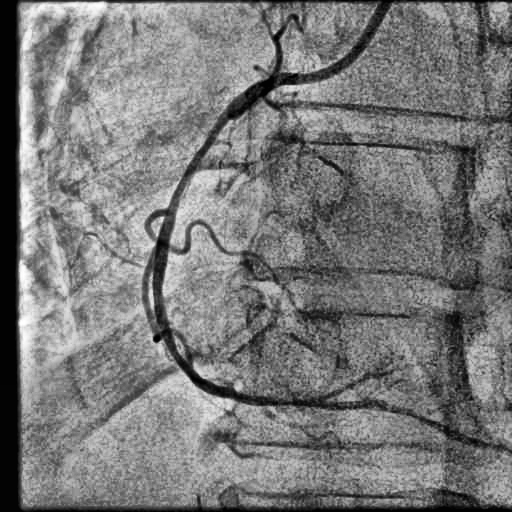pborca: (312, 360, 429, 403)
pda: (309, 398, 495, 448)
rca: (152, 81, 314, 408)
